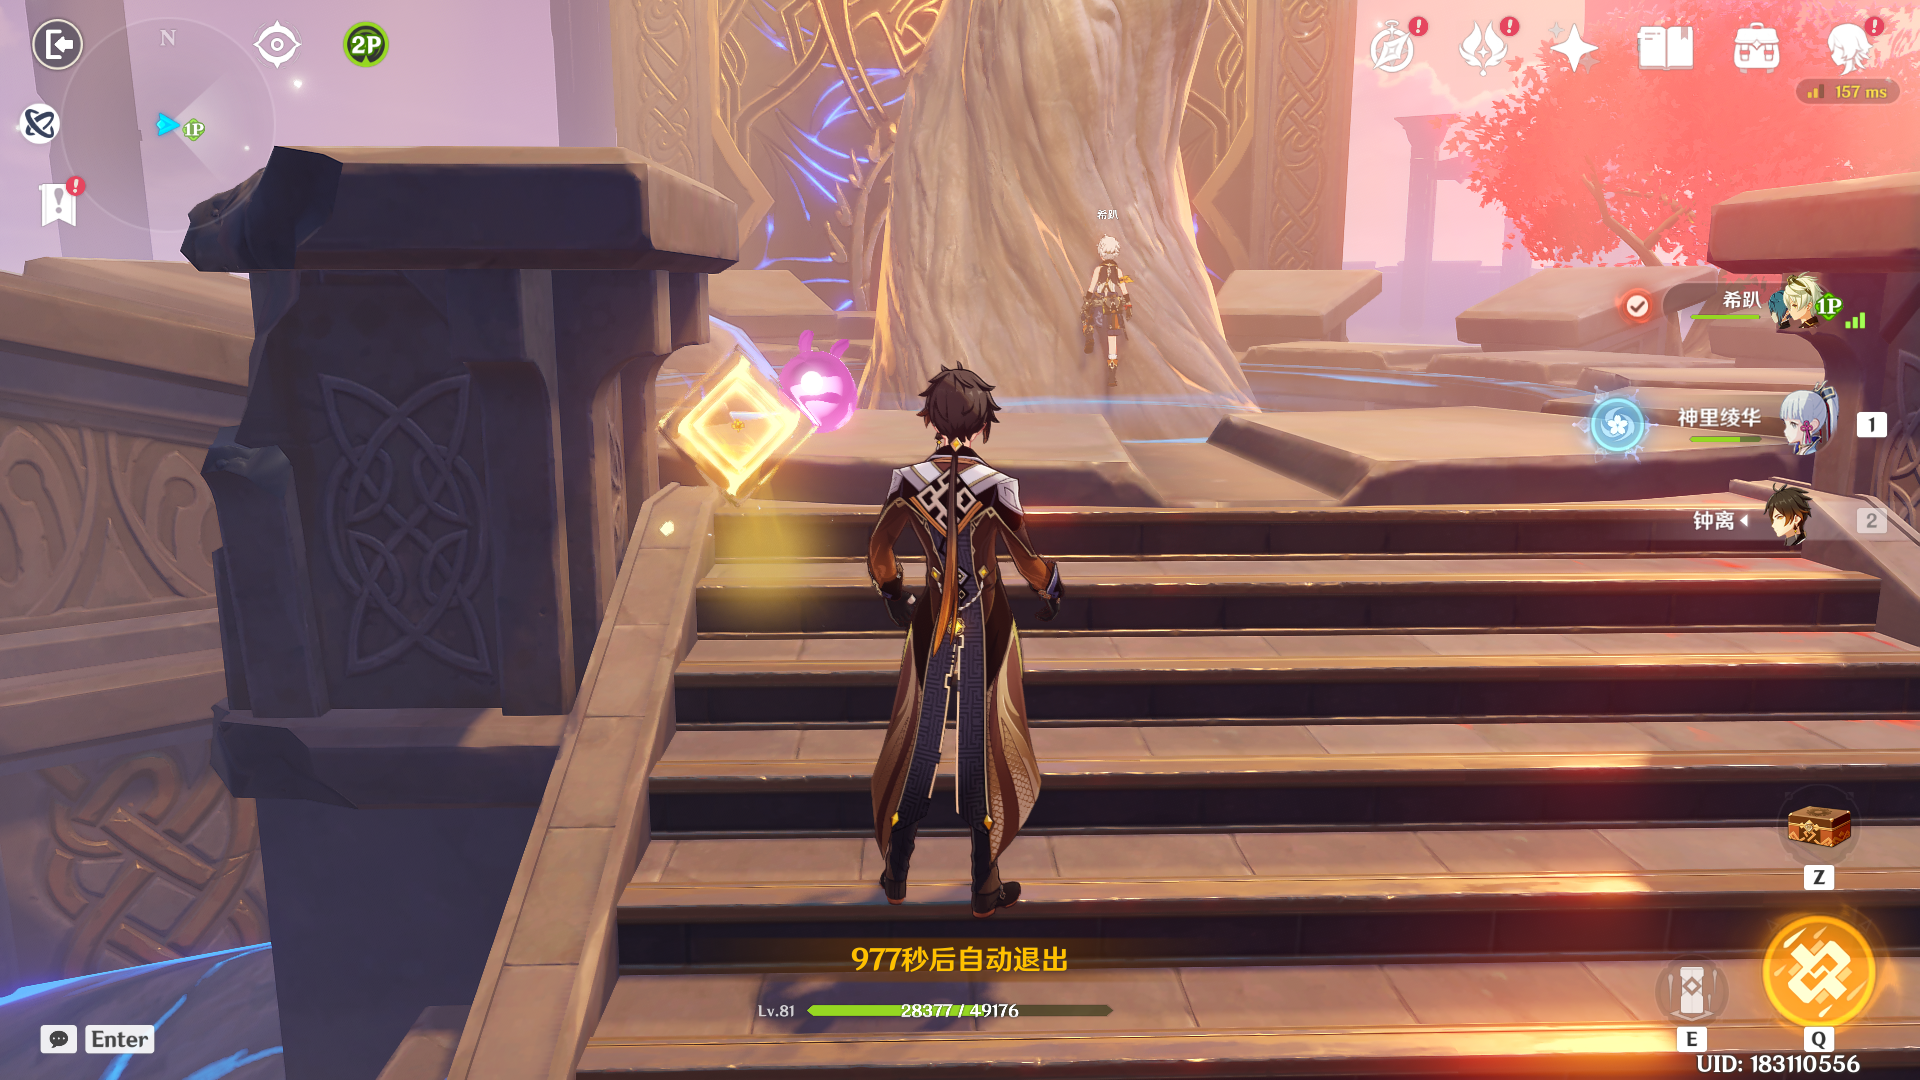character: (827, 332, 1073, 939), (1044, 225, 1153, 404)
